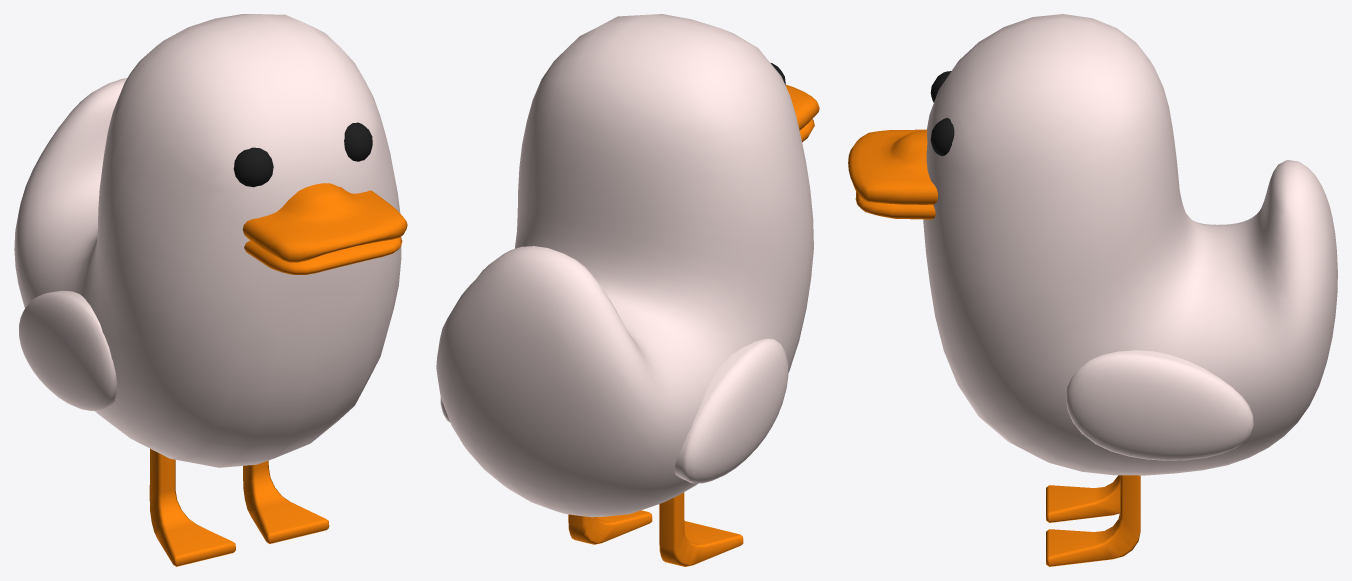
File: Farm_14_Duck_1.glb
3 renders of one model, left to right at view 1: azimuth 30°, elevation 25°; view 2: azimuth 150°, elevation 25°; view 3: azimuth 270°, elevation 25°, orthographic. The views are drawn at different scales.
Parts seen in each view (by area): view 1: Farm_14_Duck_1; view 2: Farm_14_Duck_1; view 3: Farm_14_Duck_1.
Part boxes in pixels (x1=…): Farm_14_Duck_1: x1=14, y1=14, x2=407, y2=566; Farm_14_Duck_1: x1=436, y1=14, x2=819, y2=566; Farm_14_Duck_1: x1=848, y1=14, x2=1337, y2=566.
Bounding box in the file's own units: 0.4223 × 0.7165 × 0.6372.
1 material, 1 textured.
